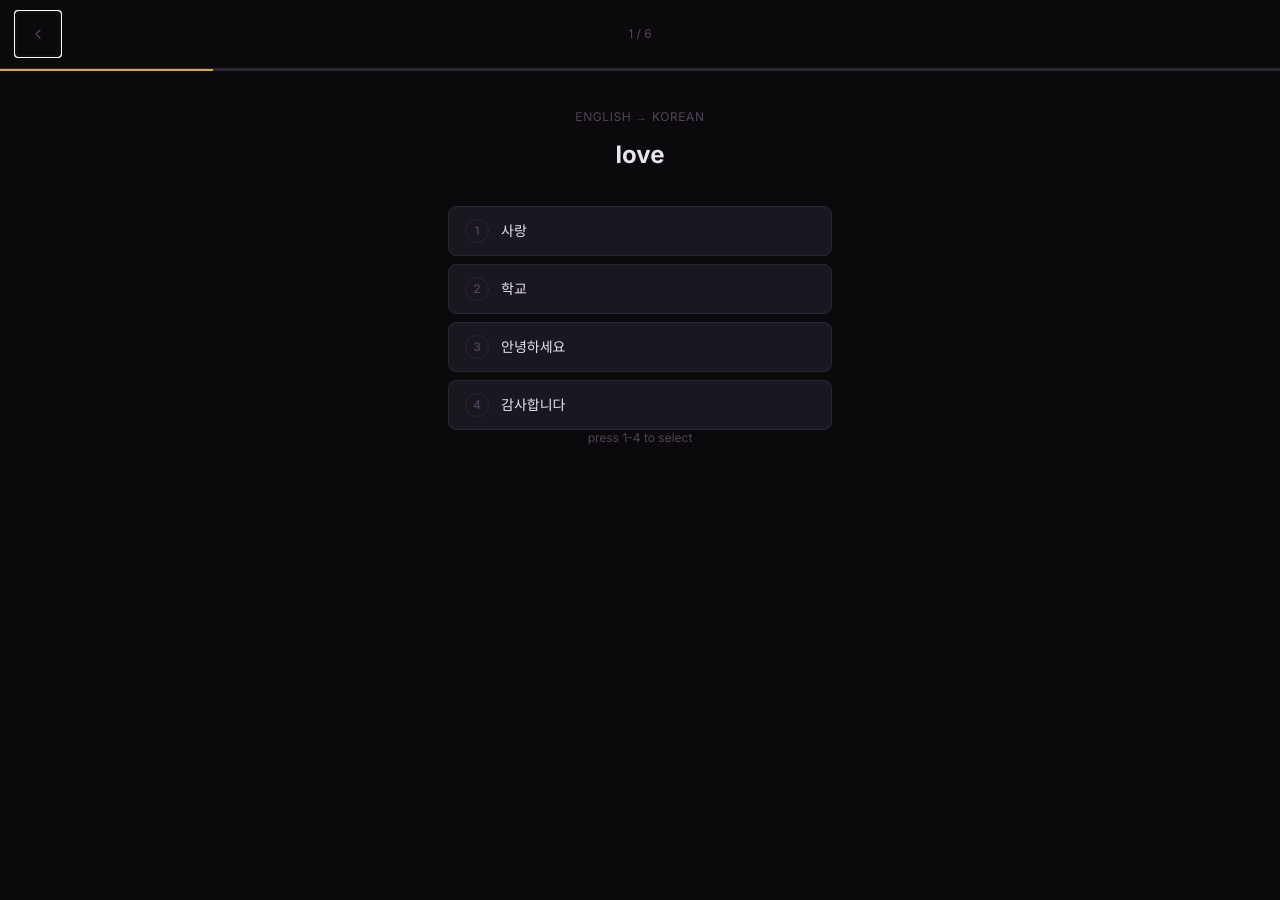
QuizMode — answering › disables options after answering
Click the button "1 사랑" at (477, 231), box [448,206,832,256]
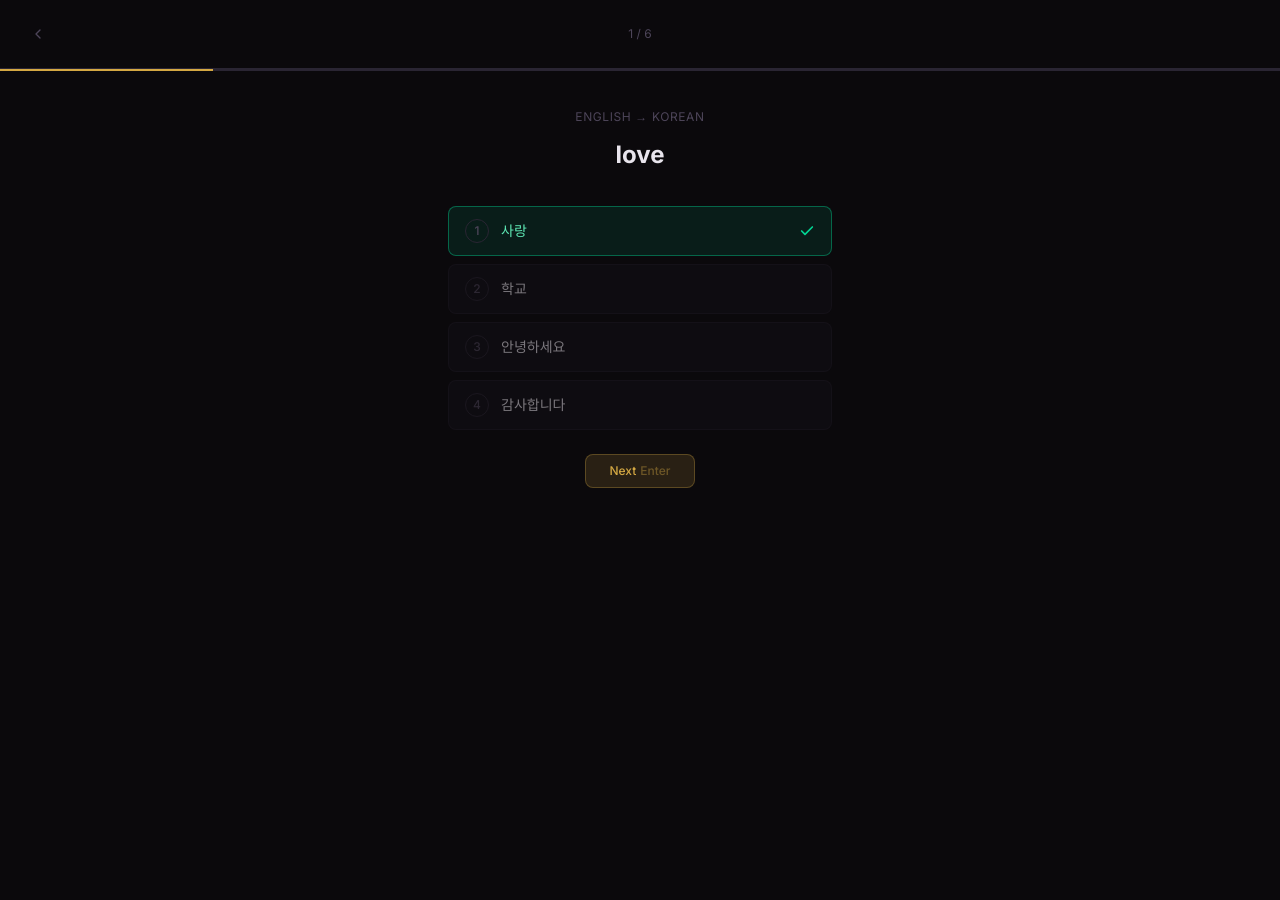
Now the button "1 사랑" is disabled, box [448,206,832,256]
Now the button "2 학교" is disabled, box [448,264,832,314]
Now the button "3 안녕하세요" is disabled, box [448,322,832,372]
